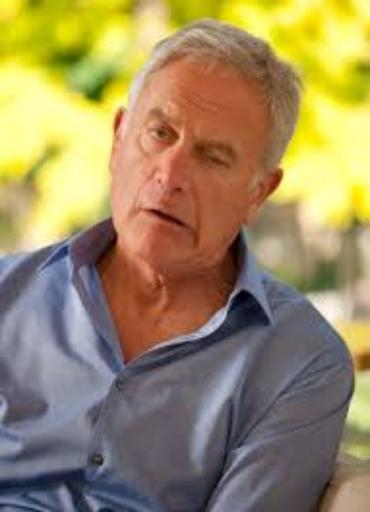left_eye: (200, 153, 232, 174)
left_lip_corner: (181, 218, 196, 234)
right_eye: (147, 127, 177, 144)
right_lip_corner: (141, 203, 155, 222)
